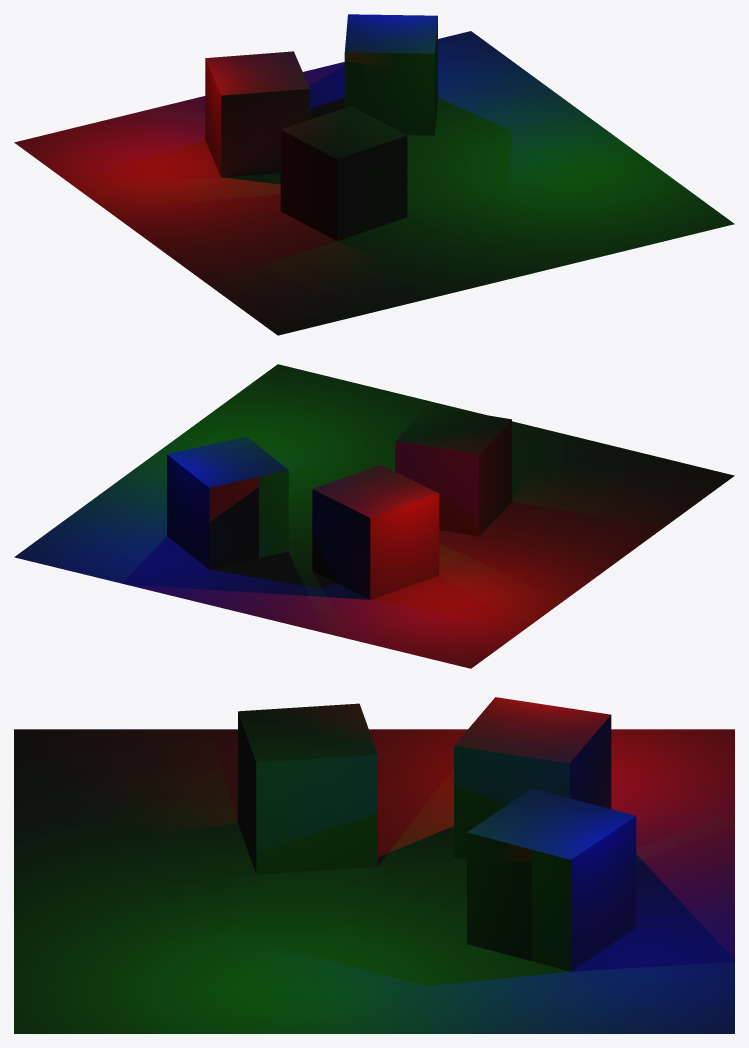
3 renders of one model, top to bottom at view 1: azimuth 30°, elevation 25°; view 2: azimuth 150°, elevation 25°; view 3: azimuth 270°, elevation 25°, orthographic. The views are drawn at different scales.
Parts seen in each view (by area): view 1: pPlane2; view 2: pPlane2; view 3: pPlane2.
Part boxes in pixels (left/top/right/bottom): pPlane2: left=14, top=14, right=734, bottom=335; pPlane2: left=14, top=364, right=734, bottom=668; pPlane2: left=14, top=697, right=734, bottom=1033.
Bounding box in the file's own units: 54.16 × 9.27 × 54.16.
1 material, 1 textured.
